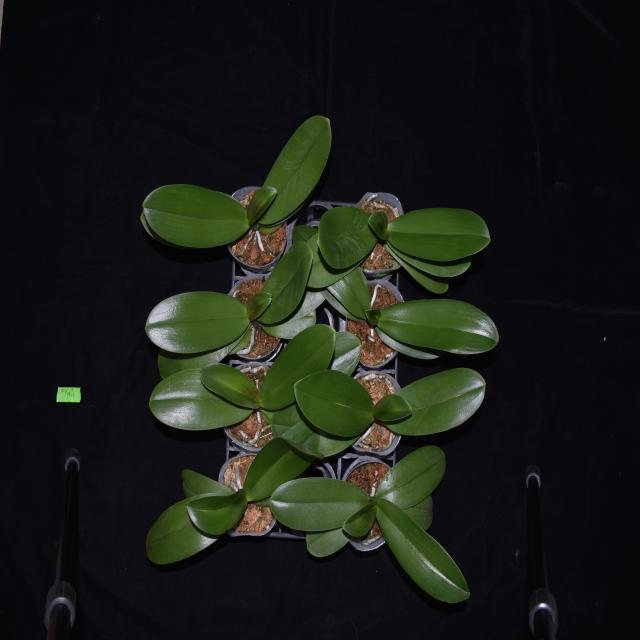leaf: (371, 500, 476, 606), (258, 113, 334, 231), (376, 293, 498, 356), (135, 185, 249, 249), (139, 485, 227, 566), (390, 366, 486, 440), (262, 320, 340, 411), (264, 474, 368, 536), (143, 291, 252, 350), (146, 368, 252, 428), (388, 206, 494, 264), (370, 444, 448, 518), (292, 372, 376, 440), (269, 402, 361, 458), (238, 436, 318, 498), (312, 201, 380, 271), (260, 242, 312, 326), (157, 332, 259, 373), (297, 232, 368, 288), (198, 360, 262, 418), (184, 495, 256, 538), (375, 248, 474, 278), (323, 264, 372, 323), (181, 465, 236, 497), (372, 389, 413, 431), (245, 176, 275, 230), (331, 333, 369, 375), (296, 528, 352, 555), (406, 490, 433, 529), (348, 505, 378, 539), (369, 208, 390, 247), (250, 286, 272, 318), (362, 302, 383, 327)
